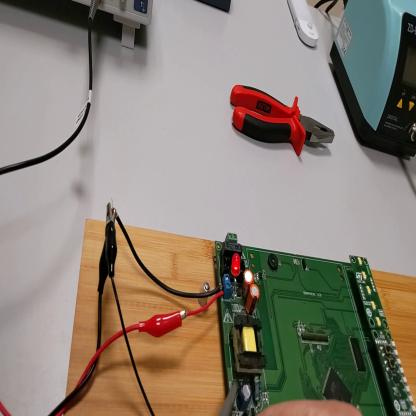hand: (262, 398, 361, 415)
low voltage board: (117, 213, 416, 416)
oscilloscope: (76, 1, 156, 52)
oscilloscope probe tip: (222, 381, 242, 416)
pliers: (232, 89, 336, 159)
welder station: (331, 1, 415, 159)
working area: (65, 220, 416, 416)
